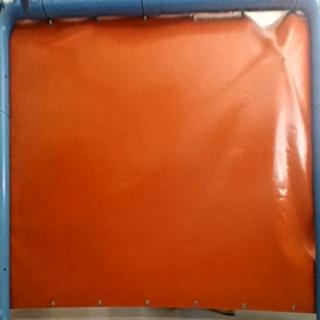Hit-hRxx: (278, 48, 292, 63)
